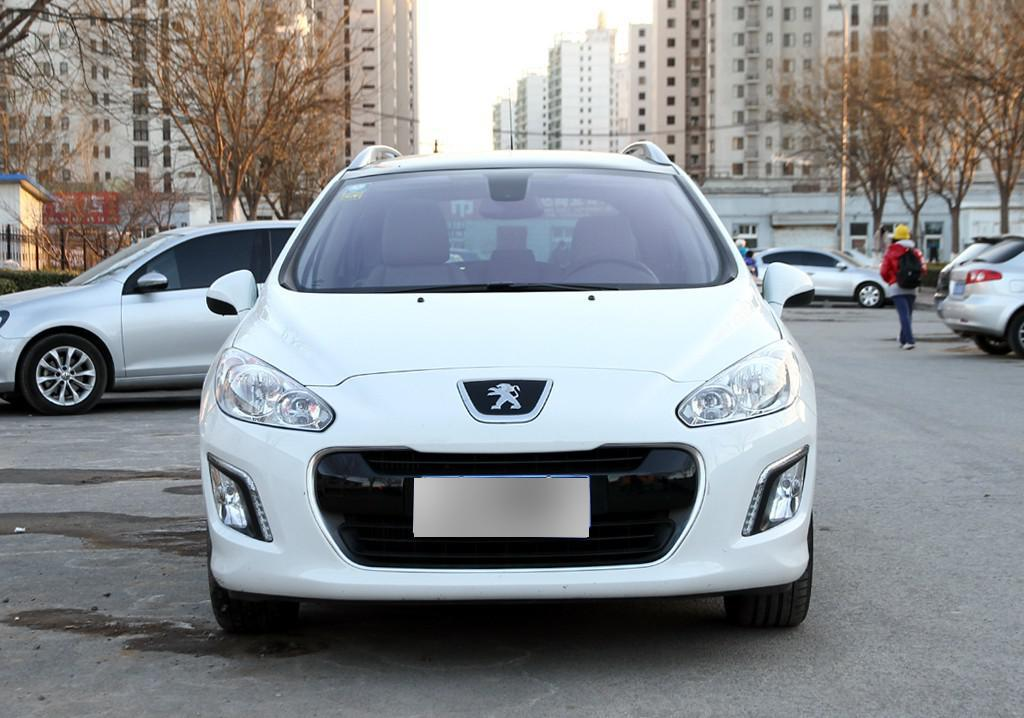Wagon: (195, 142, 818, 631)
